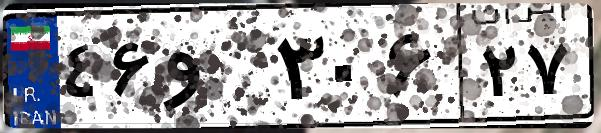0: (330, 28, 385, 110)
2: (475, 38, 525, 113)
3: (270, 28, 330, 110)
4: (57, 26, 110, 100)
6: (385, 28, 445, 110), (110, 28, 158, 98)
7: (525, 38, 570, 115)
و: (158, 20, 270, 120)
